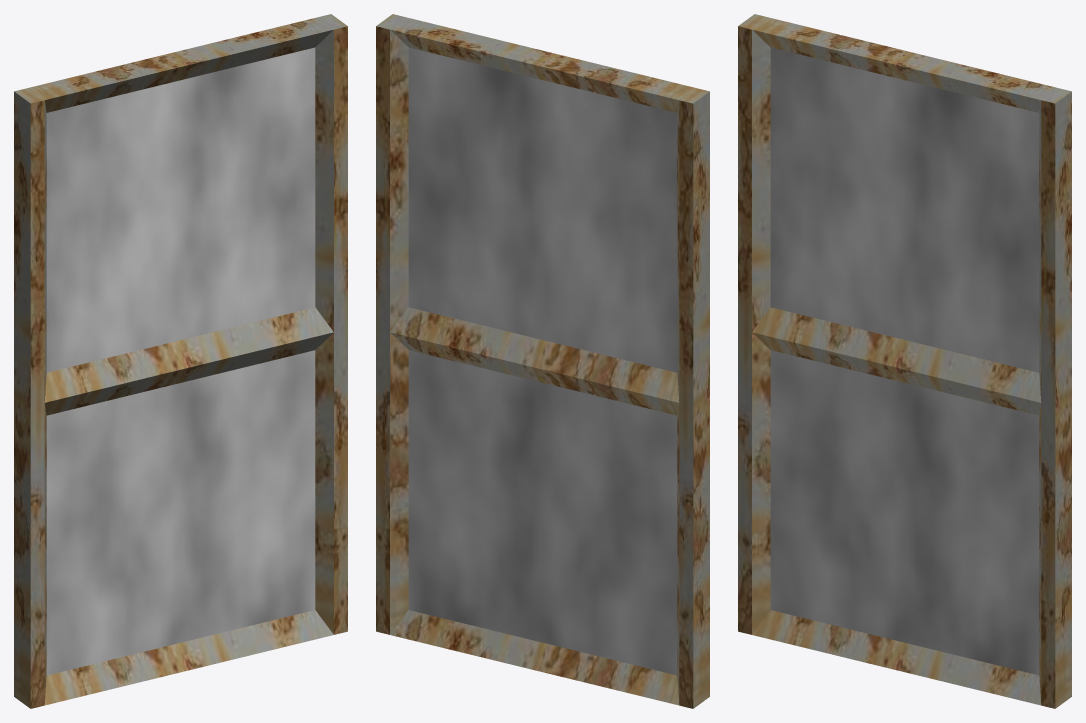
File: door.glb
3 renders of one model, left to right at view 1: azimuth 30°, elevation 25°; view 2: azimuth 150°, elevation 25°; view 3: azimuth 330°, elevation 25°, orthographic.
Visible parts, largest first — view 1: door; view 2: door; view 3: door.
Boxes of the visible parts, left/top/right/bottom form: door: left=14, top=14, right=347, bottom=708; door: left=376, top=14, right=709, bottom=708; door: left=738, top=14, right=1071, bottom=708.
Bounding box in the file's own units: 1.43 × 2.6 × 0.13.
Materials: 2 (2 with a texture image).
